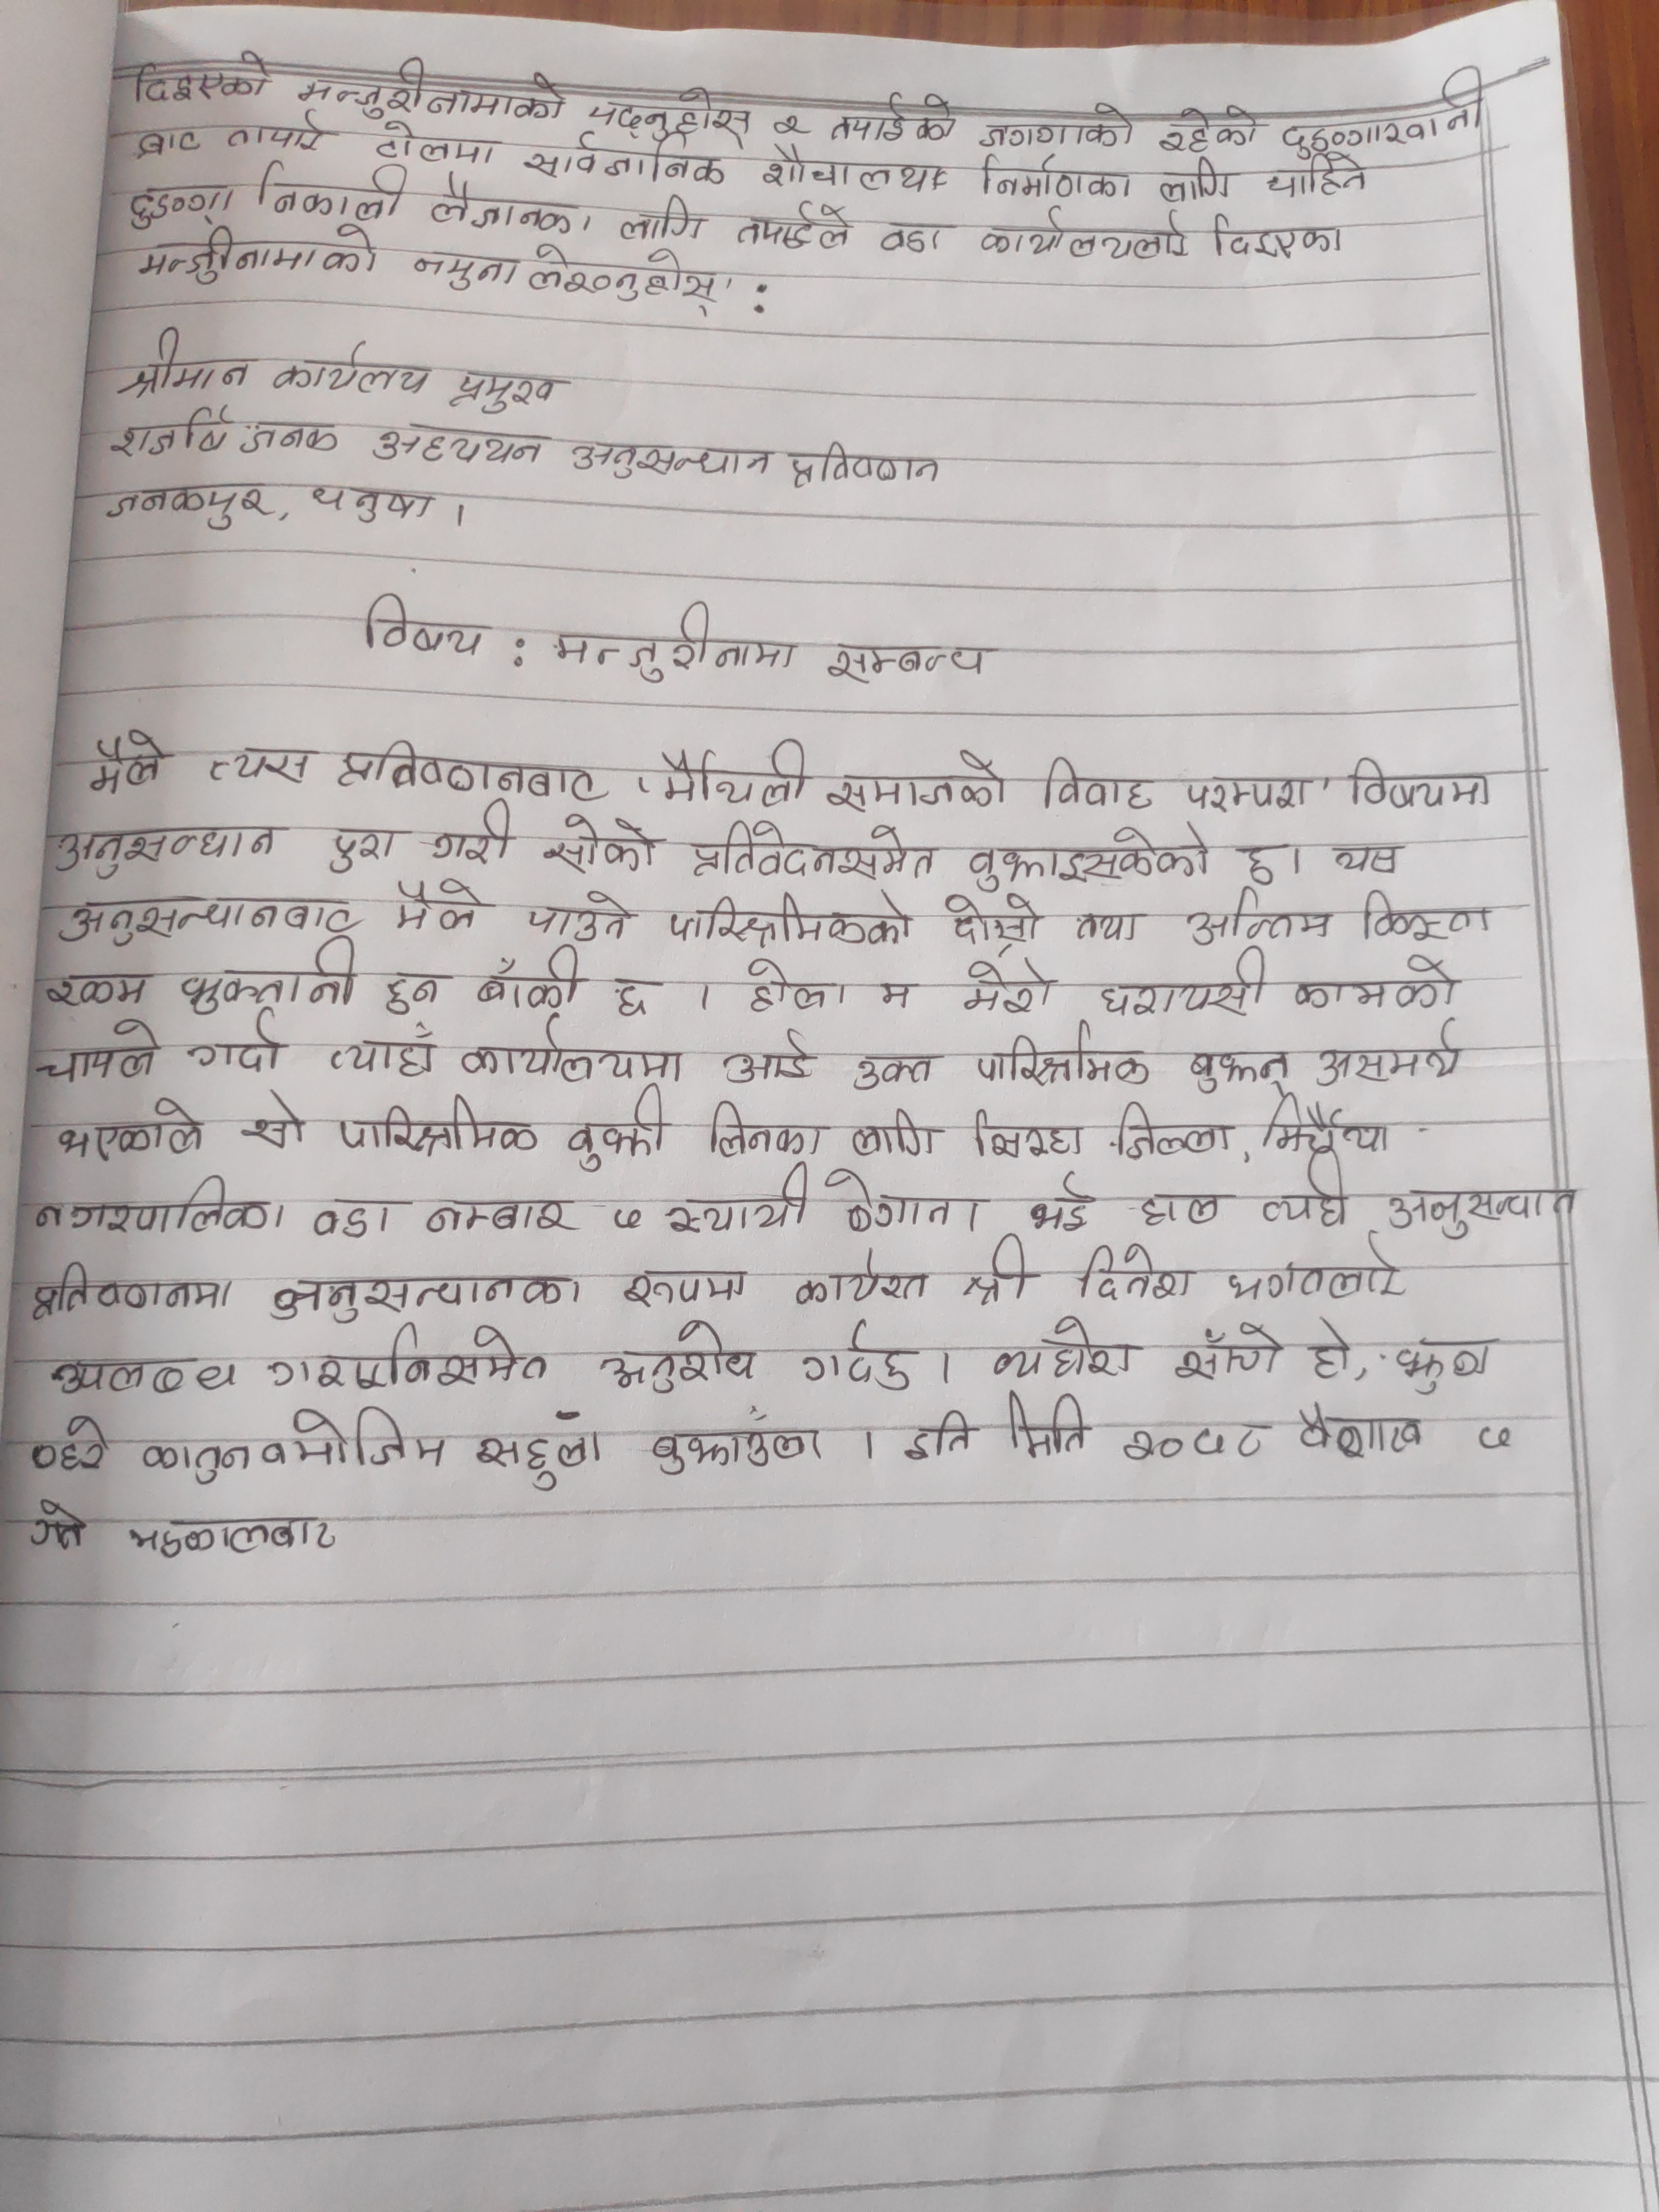text: (141, 1402, 450, 1484), (551, 597, 800, 688), (261, 1318, 556, 1393), (965, 820, 1211, 897), (335, 738, 605, 808), (1279, 66, 1490, 153), (267, 1268, 586, 1325), (295, 59, 568, 124), (458, 1014, 695, 1087), (687, 820, 941, 887), (31, 1174, 288, 1238), (51, 895, 366, 946), (664, 888, 922, 948), (521, 246, 728, 317), (176, 937, 362, 1014), (333, 1089, 538, 1157), (31, 1259, 237, 1327), (1222, 1230, 1401, 1305), (972, 1015, 1155, 1089), (974, 209, 1194, 268), (521, 131, 732, 192), (52, 822, 282, 878), (136, 232, 380, 284), (1094, 946, 1269, 1019), (598, 1318, 762, 1393), (423, 172, 596, 242), (823, 1163, 985, 1237), (1385, 1179, 1579, 1240), (824, 751, 1011, 813), (253, 155, 410, 228), (650, 742, 810, 812), (666, 1160, 814, 1235), (1290, 951, 1464, 1014), (1310, 1019, 1466, 1089), (992, 1315, 1136, 1388), (566, 437, 775, 488), (120, 1512, 342, 1559), (54, 1097, 211, 1163), (565, 1082, 674, 1176), (648, 1421, 823, 1480), (122, 324, 256, 401), (272, 338, 434, 401), (796, 1312, 917, 1395), (755, 146, 932, 202), (33, 1015, 169, 1085), (1258, 1089, 1394, 1158), (42, 1352, 242, 1399), (587, 87, 756, 143), (366, 421, 549, 472), (98, 482, 277, 533), (974, 99, 1141, 153), (359, 590, 488, 660), (972, 152, 1138, 206), (1183, 887, 1331, 946), (788, 439, 945, 495), (788, 1249, 932, 1308), (1108, 1096, 1234, 1163), (1293, 1400, 1429, 1463), (474, 1430, 605, 1494), (704, 1092, 824, 1162), (1347, 758, 1493, 813), (828, 89, 960, 150), (1253, 1155, 1352, 1235), (542, 810, 659, 878), (824, 641, 990, 688), (737, 953, 854, 1019), (474, 941, 582, 1012), (1079, 1244, 1197, 1308), (131, 52, 272, 106), (1208, 211, 1349, 265), (1359, 887, 1499, 941), (1121, 1418, 1270, 1467), (995, 1386, 1094, 1458), (955, 949, 1058, 1017), (185, 1010, 293, 1075), (965, 1104, 1089, 1160), (523, 885, 638, 944), (110, 402, 232, 458), (1175, 1318, 1283, 1381), (1042, 756, 1155, 815), (328, 1022, 441, 1082), (1391, 1336, 1497, 1399), (369, 115, 498, 164), (425, 1197, 572, 1238), (429, 799, 516, 869), (392, 871, 488, 934), (307, 481, 439, 526), (1183, 1042, 1293, 1096), (622, 1266, 753, 1312), (945, 890, 1044, 949), (444, 368, 559, 418), (721, 1028, 814, 1089), (958, 1233, 1033, 1308), (735, 204, 854, 251), (1182, 773, 1314, 815), (408, 242, 519, 289), (1159, 105, 1258, 157), (85, 730, 164, 796), (124, 181, 232, 228), (1258, 152, 1370, 197), (37, 970, 157, 1012), (227, 106, 326, 157), (613, 195, 709, 247), (237, 1089, 310, 1155), (1025, 1170, 1098, 1237), (308, 1195, 403, 1244), (211, 740, 312, 786), (850, 1108, 941, 1158), (237, 418, 340, 460), (322, 820, 399, 876), (1136, 1184, 1229, 1230), (904, 1409, 974, 1468), (1152, 158, 1234, 207), (23, 1498, 92, 1550), (1304, 1315, 1356, 1383), (1065, 906, 1152, 946), (58, 1413, 113, 1474), (382, 967, 446, 1019), (854, 1050, 932, 1092), (871, 218, 946, 261), (1328, 834, 1403, 878), (132, 124, 202, 160), (610, 968, 655, 1022), (1237, 841, 1279, 887), (1471, 1423, 1516, 1460), (875, 977, 917, 1012), (606, 1198, 647, 1233), (774, 106, 807, 141)
